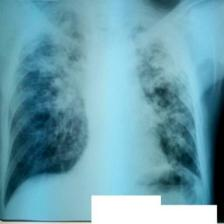tuberculosis: (1, 0, 207, 207)
